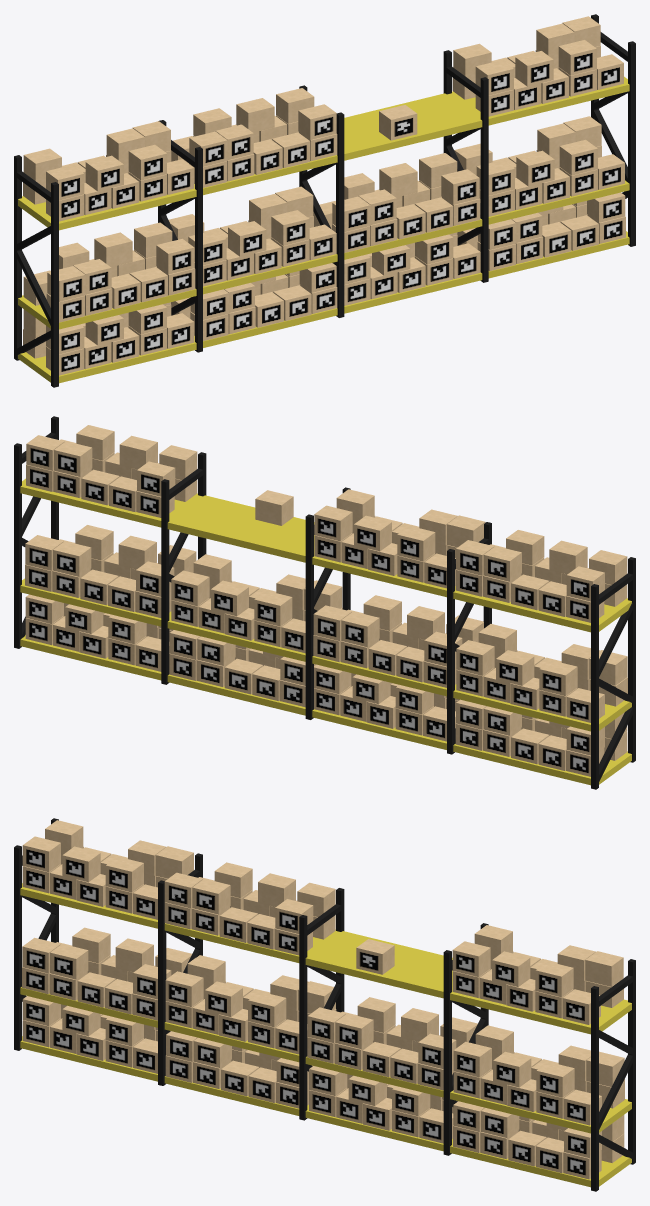
Rendered from shelf_big_movai.dae.
3 renders of one model, top to bottom at view 1: azimuth 30°, elevation 25°; view 2: azimuth 150°, elevation 25°; view 3: azimuth 330°, elevation 25°, orthographic.
Visible parts, largest first — view 1: box, boards, metal_base, Cube; view 2: box, boards, metal_base, Cube; view 3: box, boards, metal_base, Cube.
Boxes of the visible parts, x1,y1,x2,y2 form: box: (23,16,625,375); boards: (18,76,629,383); metal_base: (14,14,635,387); Cube: (379,105,417,140); box: (25,425,627,776); boards: (20,478,631,785); metal_base: (14,416,635,789); Cube: (255,490,293,525); box: (22,820,624,1179); boards: (20,883,631,1187); metal_base: (14,818,635,1191); Cube: (356,939,394,974).
Bounding box in the file's own units: 18.06 × 2.14 × 6.06.
4 materials, 2 textured.
